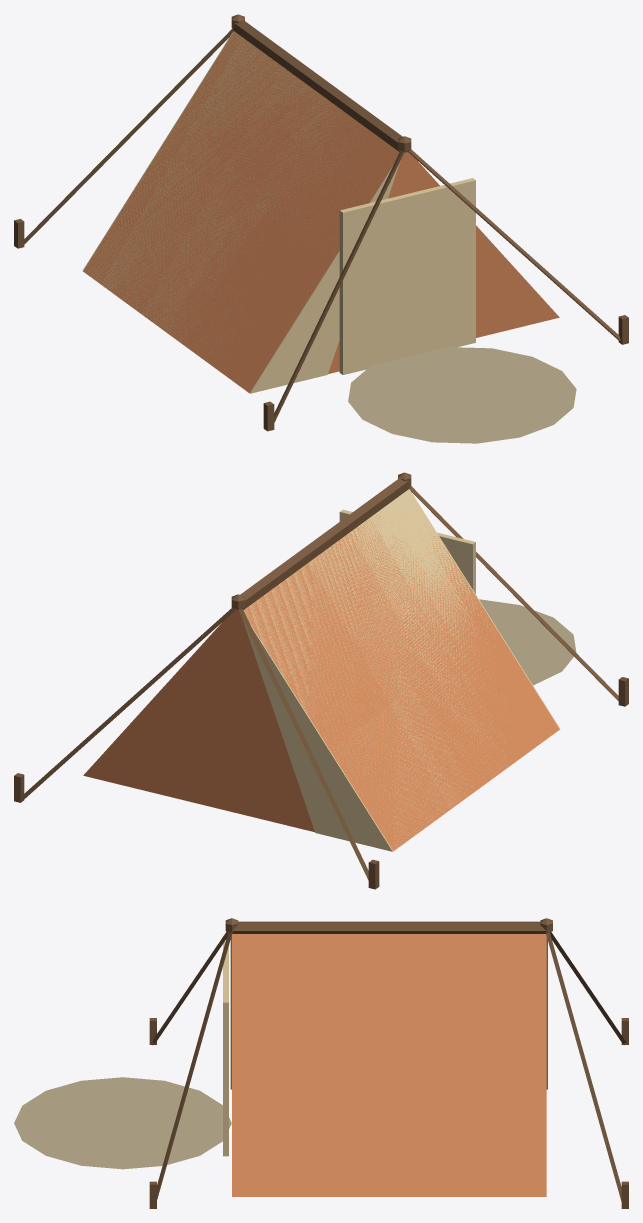
The model's file is xy_isle_tent.glb.
3 views of the same model, one above another, from view 1: azimuth 30°, elevation 25°; view 2: azimuth 150°, elevation 25°; view 3: azimuth 270°, elevation 25° (orthographic). The views are drawn at different scales.
Parts seen in each view (by area): view 1: Tent; view 2: Tent; view 3: Tent.
Part boxes in pixels (x1,y1,x2,y2): Tent: (14,14,628,443); Tent: (14,472,628,889); Tent: (14,918,628,1208).
Bounding box in the file's own units: 3.26 × 1.9 × 5.08.
